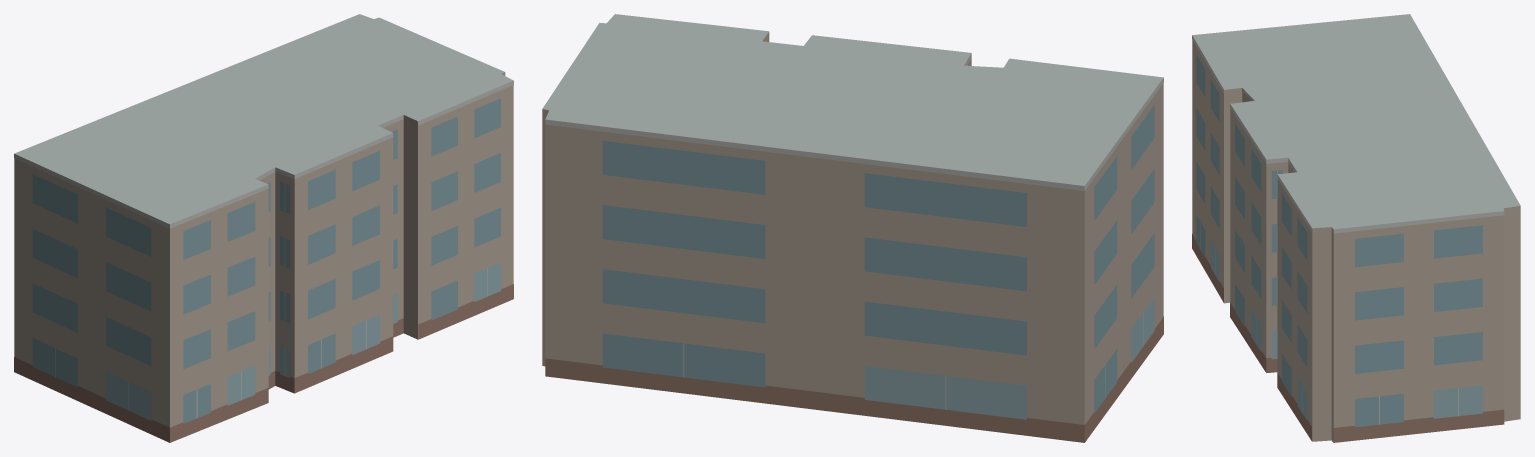
File: survey-upis-32806705.glb
The picture shows the model from 3 angles, left to right: view 1: azimuth 30°, elevation 25°; view 2: azimuth 150°, elevation 25°; view 3: azimuth 270°, elevation 25°; orthographic projection. The views are drawn at different scales.
Visible parts, largest first — view 1: survey-upis-32806705.tmp; view 2: survey-upis-32806705.tmp; view 3: survey-upis-32806705.tmp.
Boxes of the visible parts, <box> form: survey-upis-32806705.tmp: <box>14,14,513,442</box>; survey-upis-32806705.tmp: <box>542,14,1163,442</box>; survey-upis-32806705.tmp: <box>1192,14,1520,442</box>.
Size of the model in its own units: 26.85 by 12.4 by 17.31.
